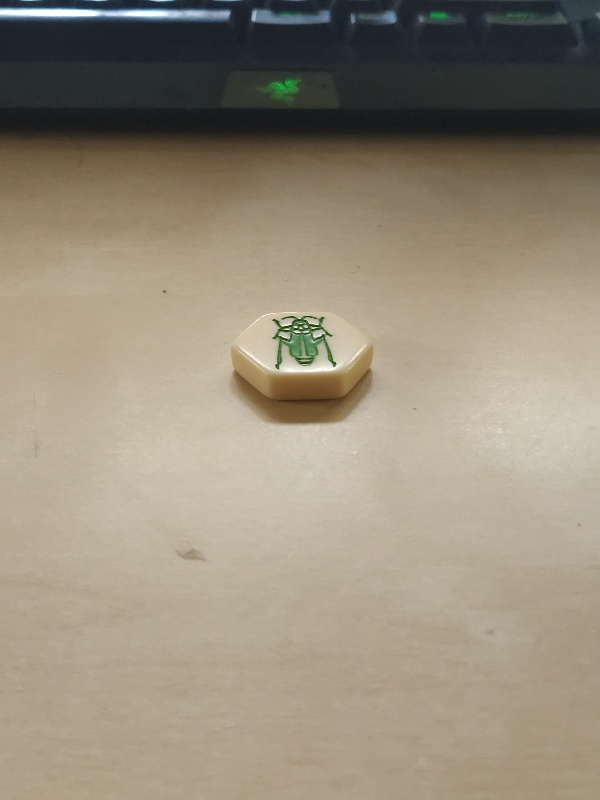white_grasshopper: (227, 310, 379, 401)
